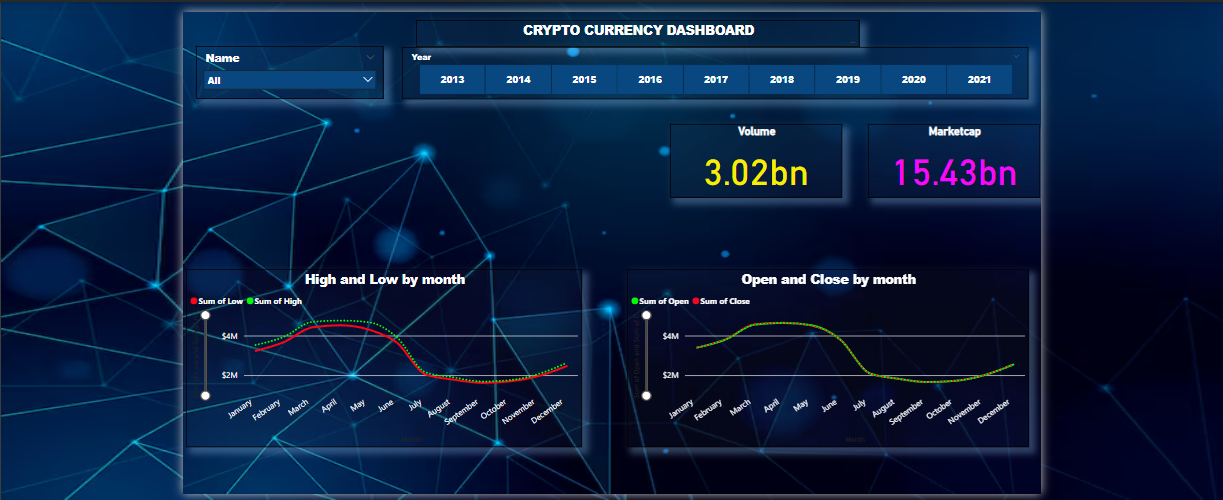

The page's visual inventory and layout, read from the dashboard file:
{"tool":"powerbi","page":{"name":"Page 2","canvas":[1280,720],"ordinal":1},"visuals":[{"type":"textbox","title":"CRYPTO CURRENCY DASHBOARD","box":[348.4,11.6,662.2,40.5],"z":0},{"type":"slicer","fields":{"Values":["CryptoData.Name"]},"box":[20,51.4,280,78.6],"z":1},{"type":"slicer","fields":{"Values":["CryptoData.Year"]},"box":[326.7,52,935.4,78.1],"z":2},{"type":"card","title":"Marketcap","fields":{"Values":["Avg(CryptoData.Marketcap)"]},"box":[1022.2,167.7,257.3,109.9],"z":3},{"type":"card","title":"Volume","fields":{"Values":["Avg(CryptoData.Volume)"]},"box":[727.2,167.7,257.3,109.9],"z":4},{"type":"lineChart","title":"High and Low by month","fields":{"Y":["Sum(CryptoData.Low)","Sum(CryptoData.High)"],"Category":["CryptoData.Date.Variation.Date Hierarchy.Month"]},"box":[4.3,383.1,591.3,266],"z":5},{"type":"lineChart","title":"Open and Close by month","fields":{"Category":["CryptoData.Date.Variation.Date Hierarchy.Month"],"Y":["Sum(CryptoData.Open)","Sum(CryptoData.Close)"]},"box":[662.2,383.1,600,266],"z":6}]}

Visuals, with their boxes on the page's 1280x720 design canvas (x1, y1, x2, y2). These are canvas units, not pixel positions in the 1223x500 screenshot, which may show the page scaled, cropped or inside an application window:
"CRYPTO CURRENCY DASHBOARD" textbox: (348, 12, 1011, 52)
slicer - CryptoData.Name: (20, 51, 300, 130)
slicer - CryptoData.Year: (327, 52, 1262, 130)
"Marketcap" card: (1022, 168, 1280, 278)
"Volume" card: (727, 168, 984, 278)
"High and Low by month" lineChart: (4, 383, 596, 649)
"Open and Close by month" lineChart: (662, 383, 1262, 649)
